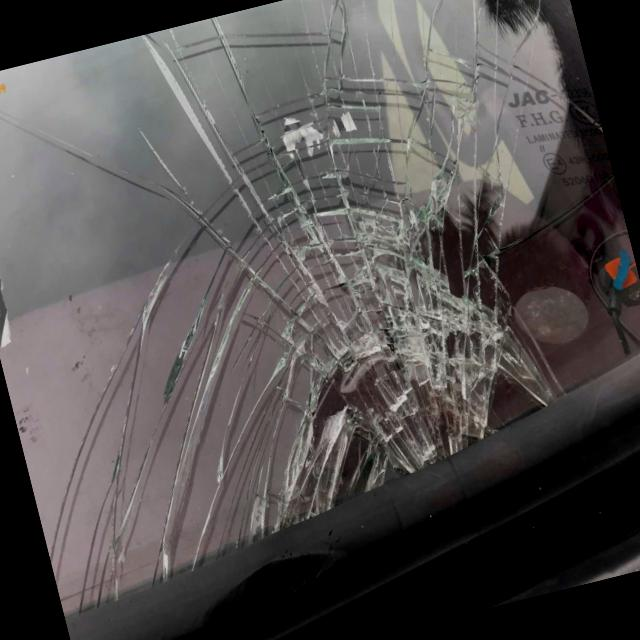Fissure: (0, 145, 411, 620), (0, 35, 179, 242)
